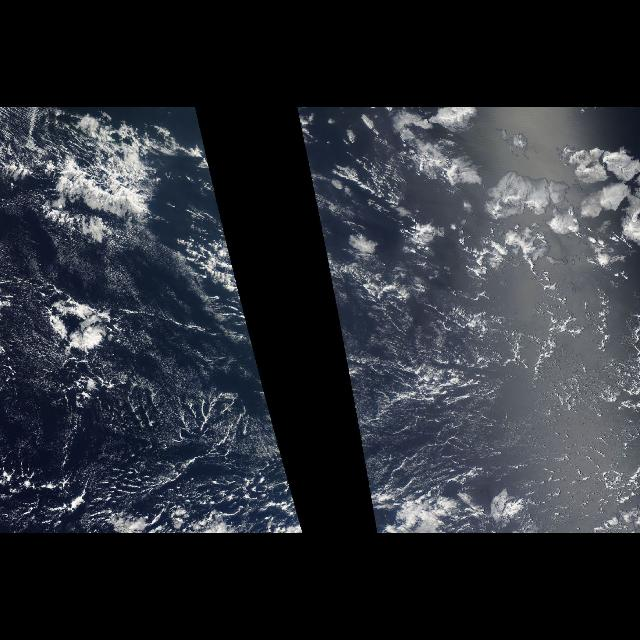Flower: (368, 109, 640, 283), (49, 232, 207, 318)
Gravel: (356, 291, 640, 477), (36, 360, 252, 520)
Sugar: (0, 351, 304, 533), (342, 351, 640, 533)
